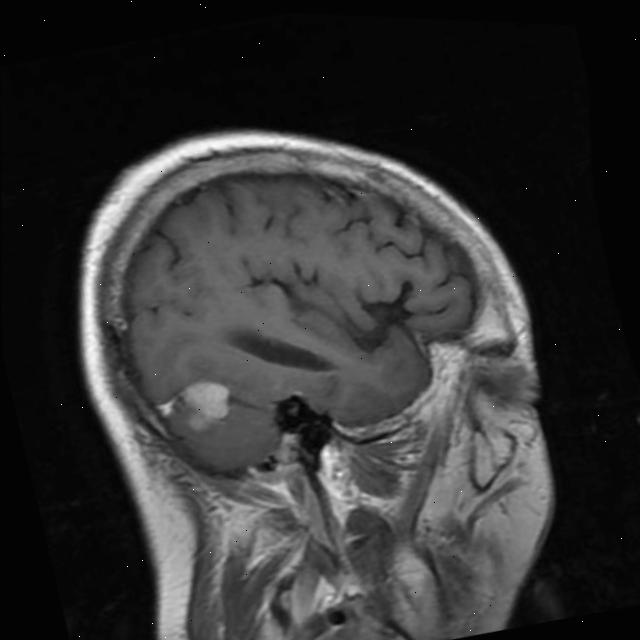Meningioma: (165, 370, 238, 432)
